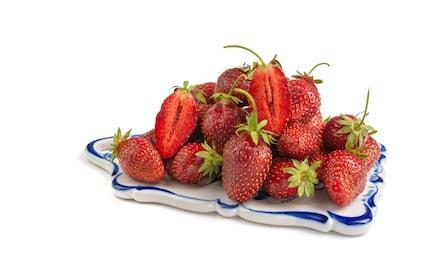Fresa: (242, 58, 301, 147), (216, 121, 276, 207), (148, 84, 201, 163), (314, 144, 371, 210), (106, 133, 168, 187), (261, 152, 315, 206), (320, 109, 373, 163), (283, 66, 325, 131)
